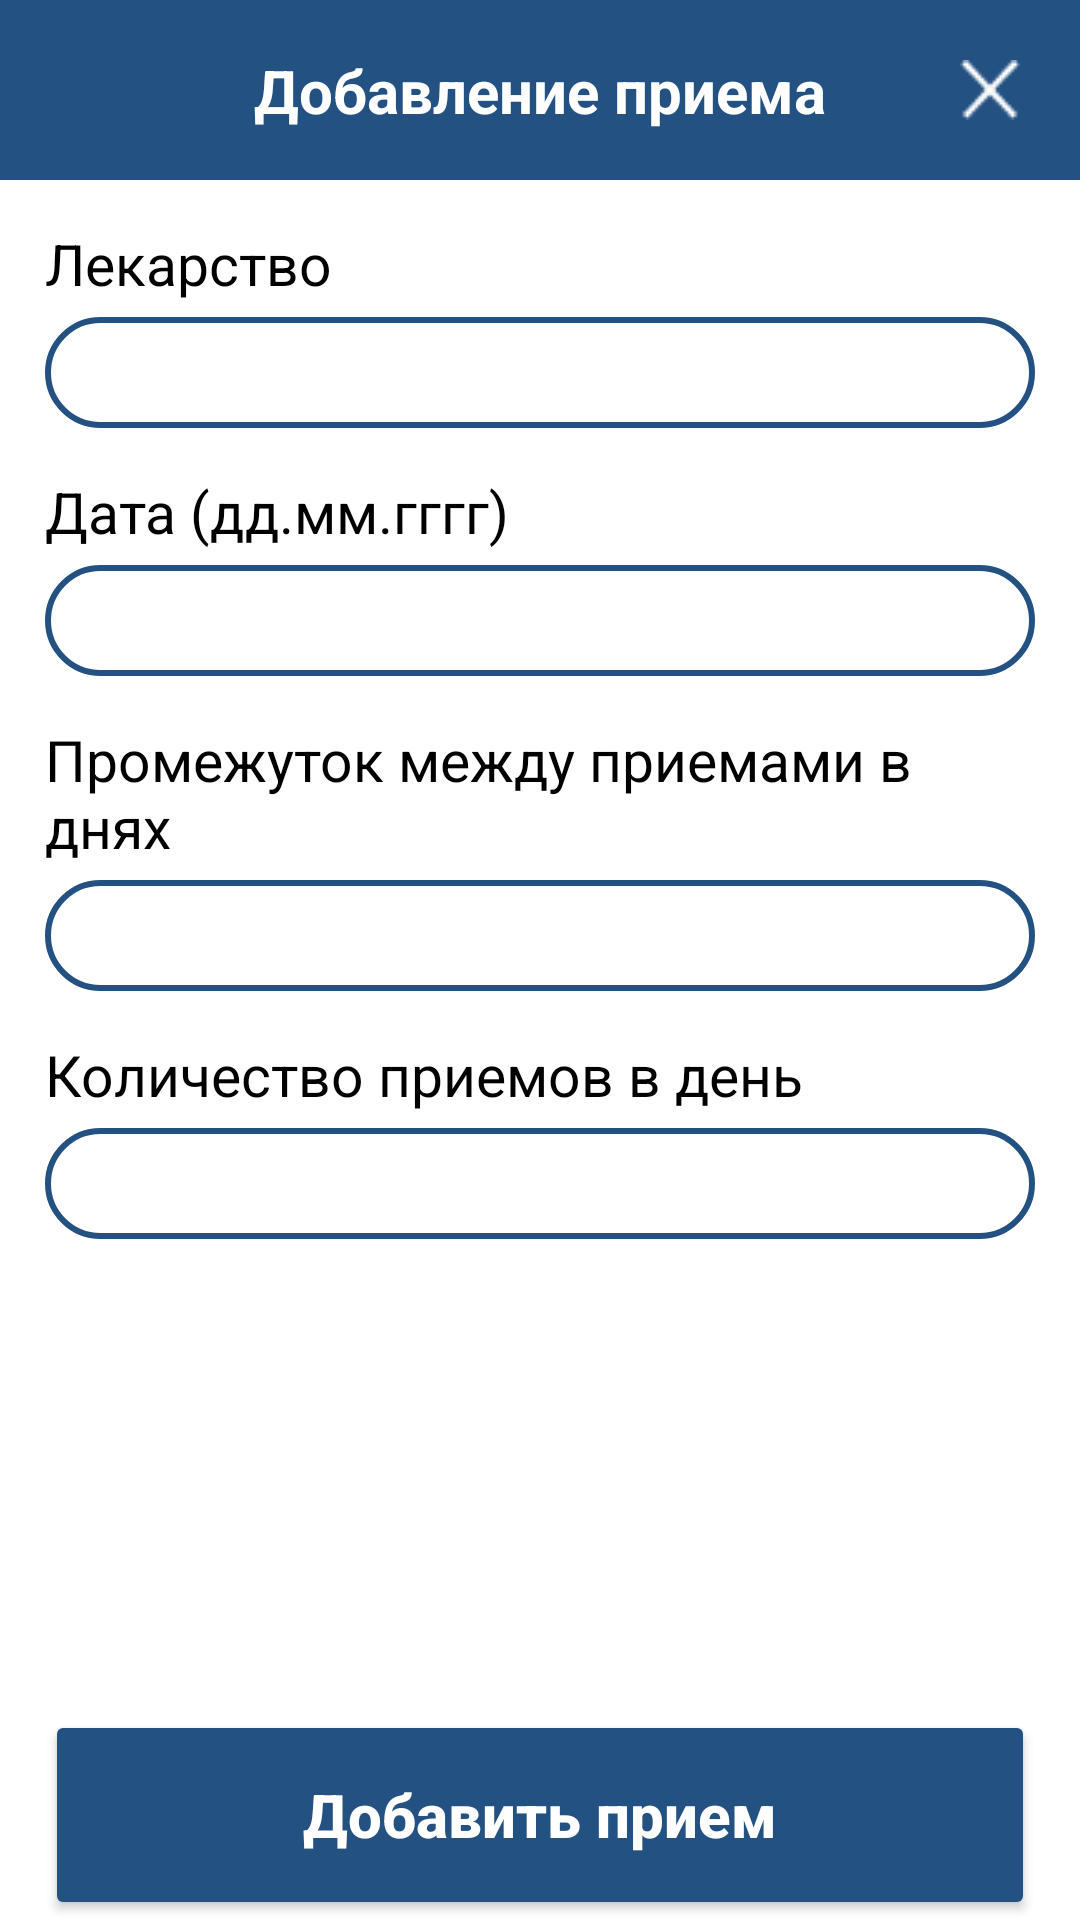

Named icons in this screenshot (1080x1920) and their centers, (x=x, y=y):
closebutton: (x=990, y=90)
